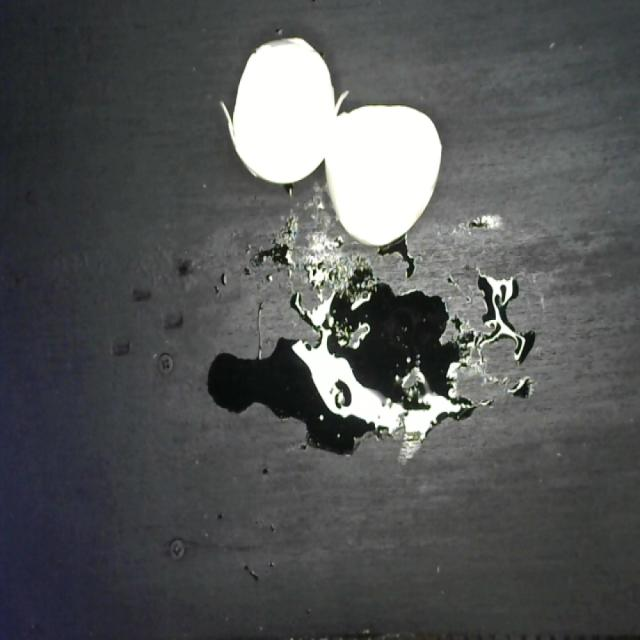biodegradable: (216, 31, 449, 246)
